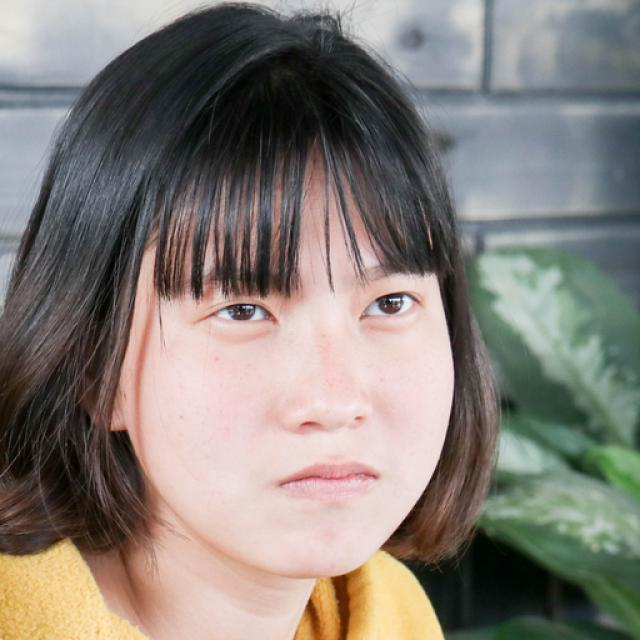sad: (124, 180, 456, 575)
